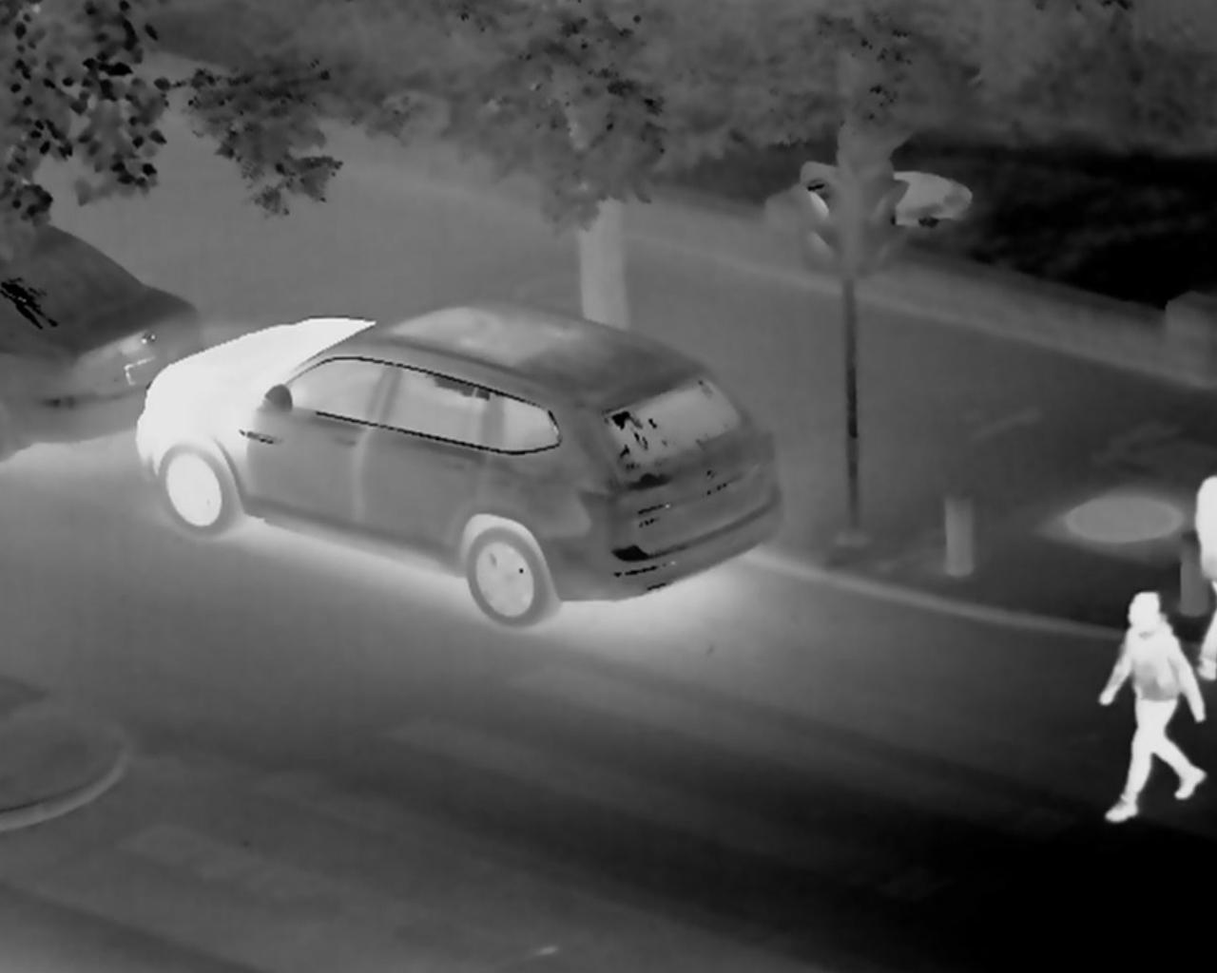person: (1100, 569, 1217, 798)
